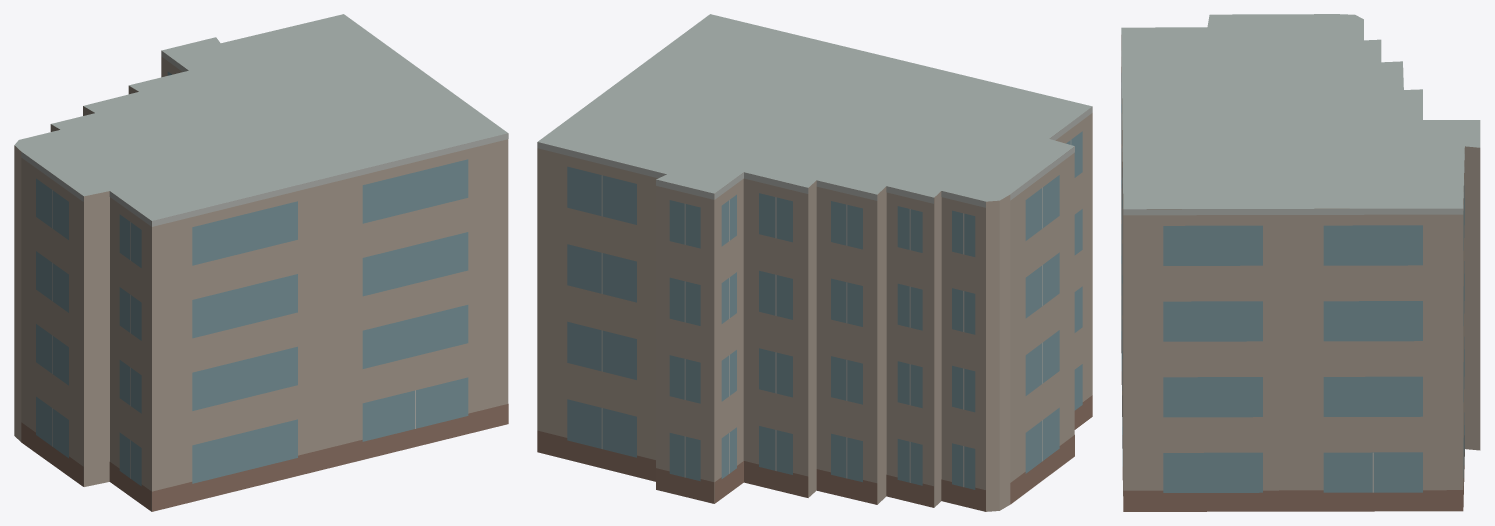
Rendered from survey-upis-33037180.glb.
3 views of the same model, side by side, from view 1: azimuth 30°, elevation 25°; view 2: azimuth 150°, elevation 25°; view 3: azimuth 270°, elevation 25° (orthographic). The views are drawn at different scales.
Visible parts, largest first — view 1: survey-upis-33037180.tmp; view 2: survey-upis-33037180.tmp; view 3: survey-upis-33037180.tmp.
Boxes of the visible parts, box(x1,y1,x2,y2) form: survey-upis-33037180.tmp: box(14, 14, 508, 511); survey-upis-33037180.tmp: box(537, 14, 1092, 511); survey-upis-33037180.tmp: box(1121, 14, 1480, 511).
Size of the model in its own units: 16.67 by 12.05 by 12.97.
